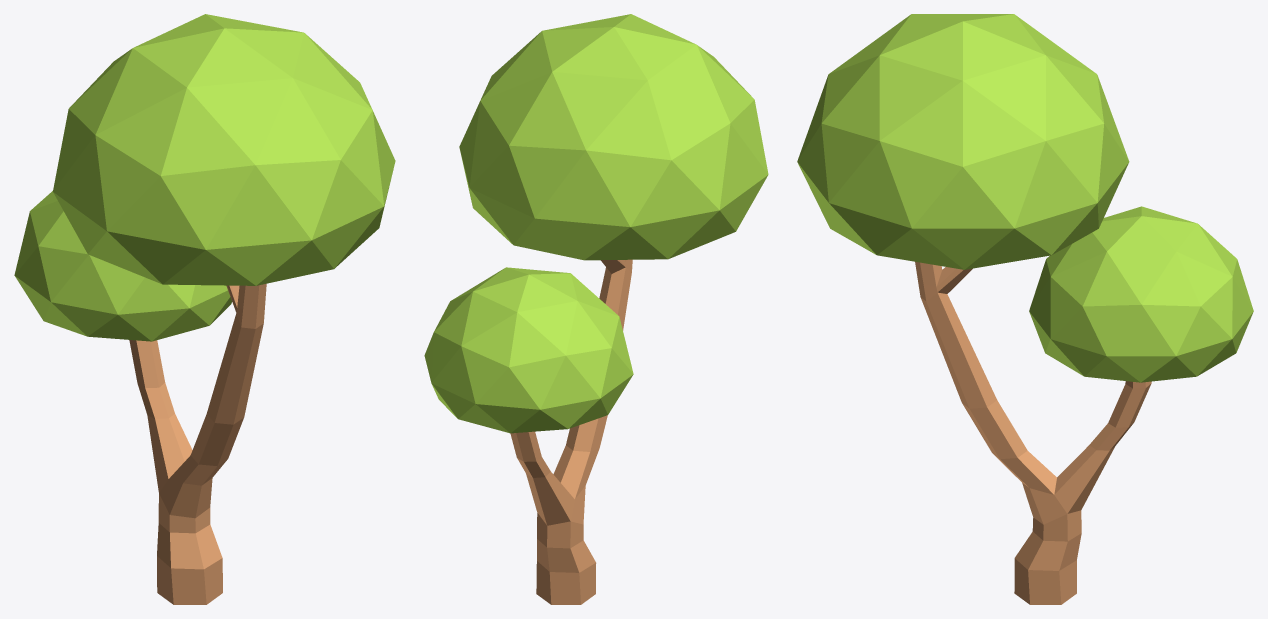
Rendered from tree_broad_1.glb.
3 renders of one model, left to right at view 1: azimuth 30°, elevation 25°; view 2: azimuth 150°, elevation 25°; view 3: azimuth 270°, elevation 25°, orthographic. The views are drawn at different scales.
Visible parts, largest first — view 1: Icosphere.002; view 2: Icosphere.002; view 3: Icosphere.002.
Boxes of the visible parts, bbox=[...] form: Icosphere.002: bbox=[14, 14, 395, 604]; Icosphere.002: bbox=[424, 14, 768, 604]; Icosphere.002: bbox=[797, 14, 1253, 604].
Bounding box in the file's own units: 2.27 × 4.5 × 3.28.
